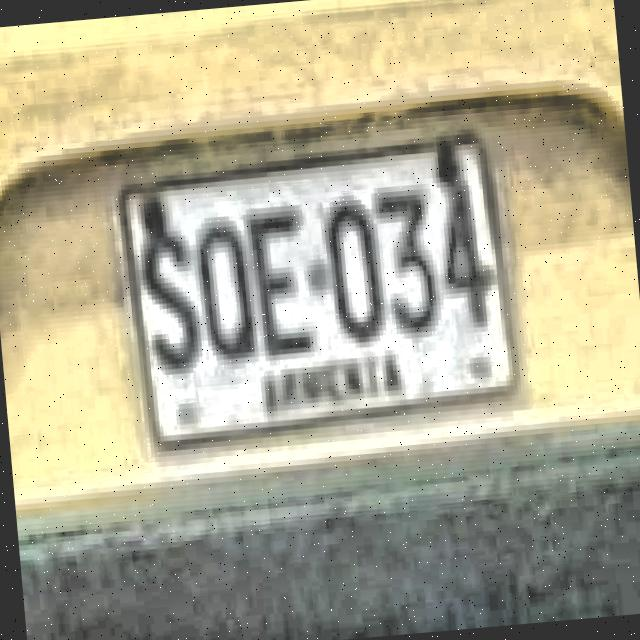plate: (121, 139, 515, 442)
